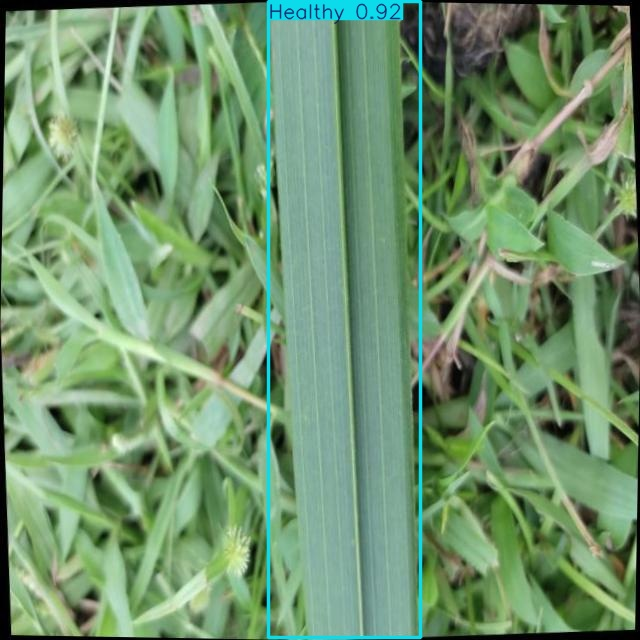Healthy: (268, 2, 421, 638)
